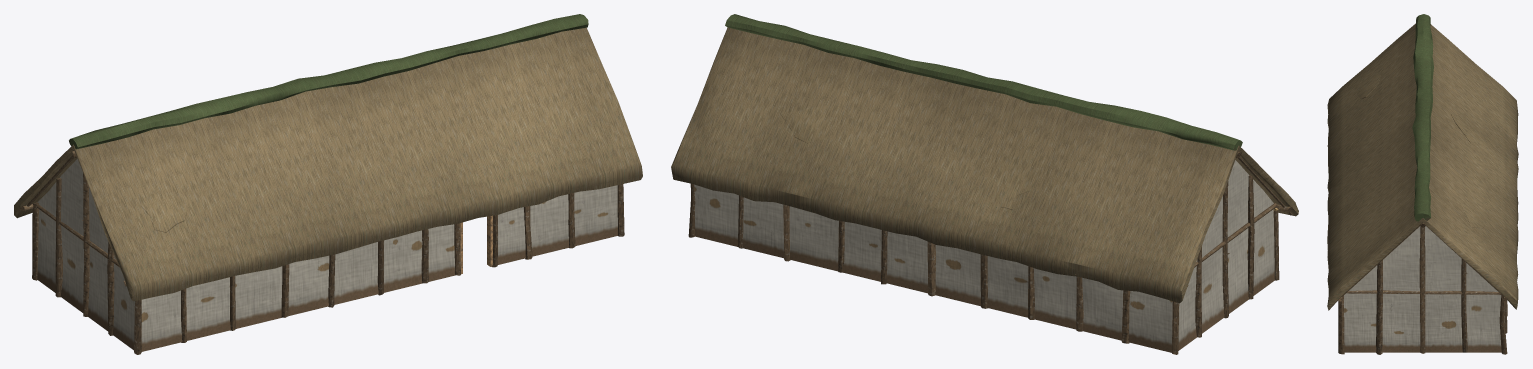
The model's file is house_004_limewash.glb.
The picture shows the model from 3 angles, left to right: view 1: azimuth 30°, elevation 25°; view 2: azimuth 150°, elevation 25°; view 3: azimuth 270°, elevation 25°; orthographic projection. The views are drawn at different scales.
Visible parts, largest first — view 1: Roof, Wall, Frame; view 2: Roof, Wall, Frame; view 3: Roof, Wall, Frame.
Boxes of the visible parts, x1,y1,x2,y2 form: Roof: (14, 14, 642, 301); Wall: (37, 159, 617, 351); Frame: (19, 151, 624, 354); Roof: (671, 14, 1298, 303); Wall: (694, 160, 1274, 352); Frame: (688, 151, 1292, 354); Roof: (1327, 14, 1518, 310); Wall: (1344, 226, 1504, 352); Frame: (1338, 223, 1507, 354).
Bounding box in the file's own units: 15.89 × 5.45 × 6.39.
Materials: 4 (3 with a texture image).
